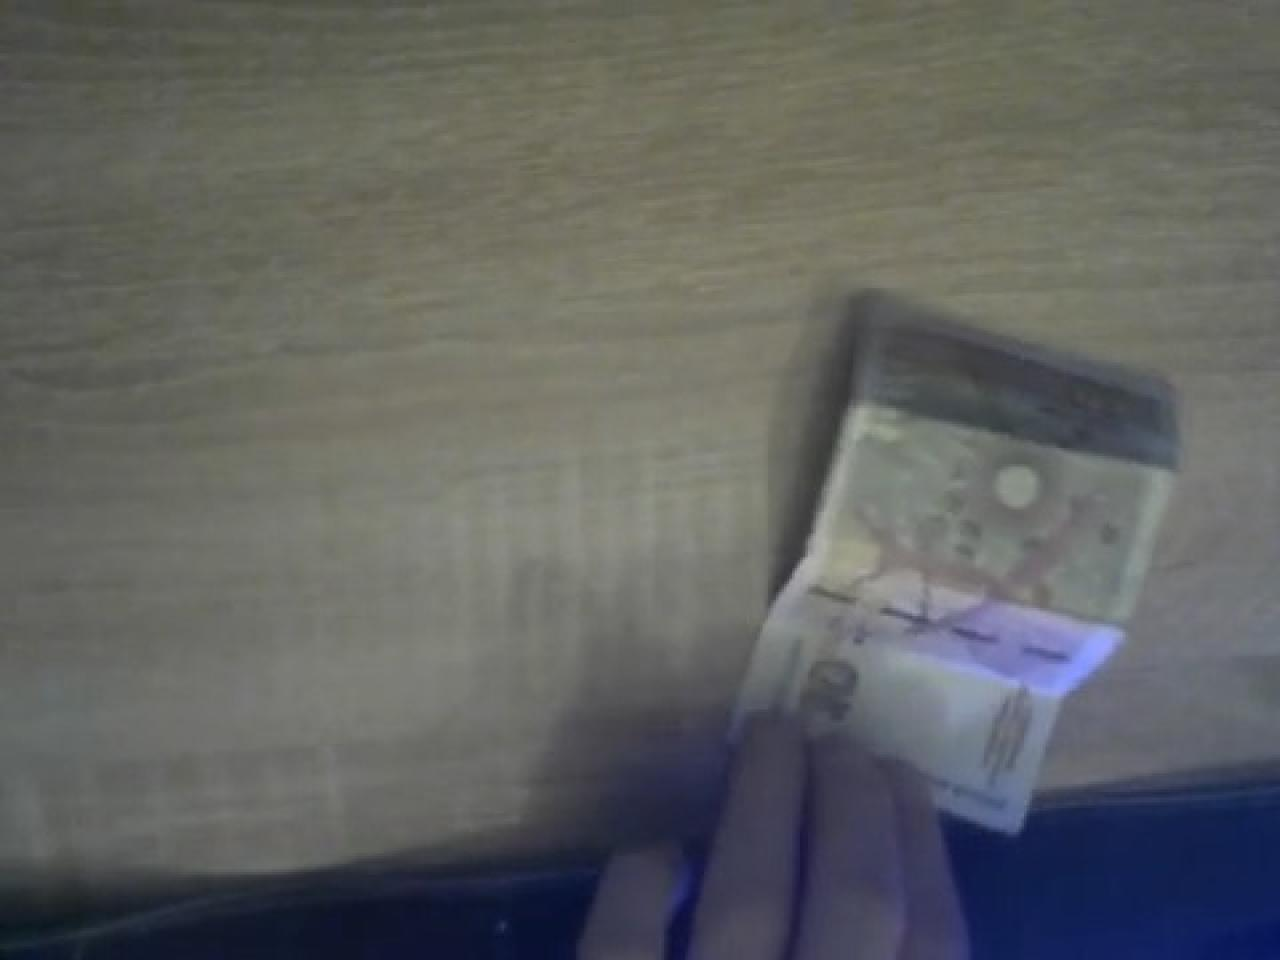10leva: (728, 288, 1178, 832)
